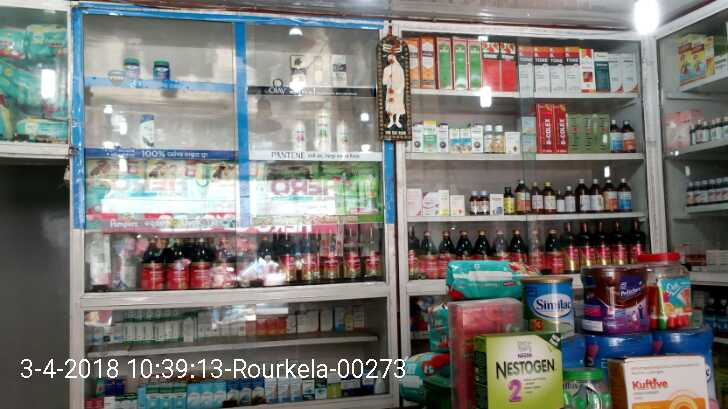vicks: (153, 60, 171, 76), (124, 59, 140, 77)
